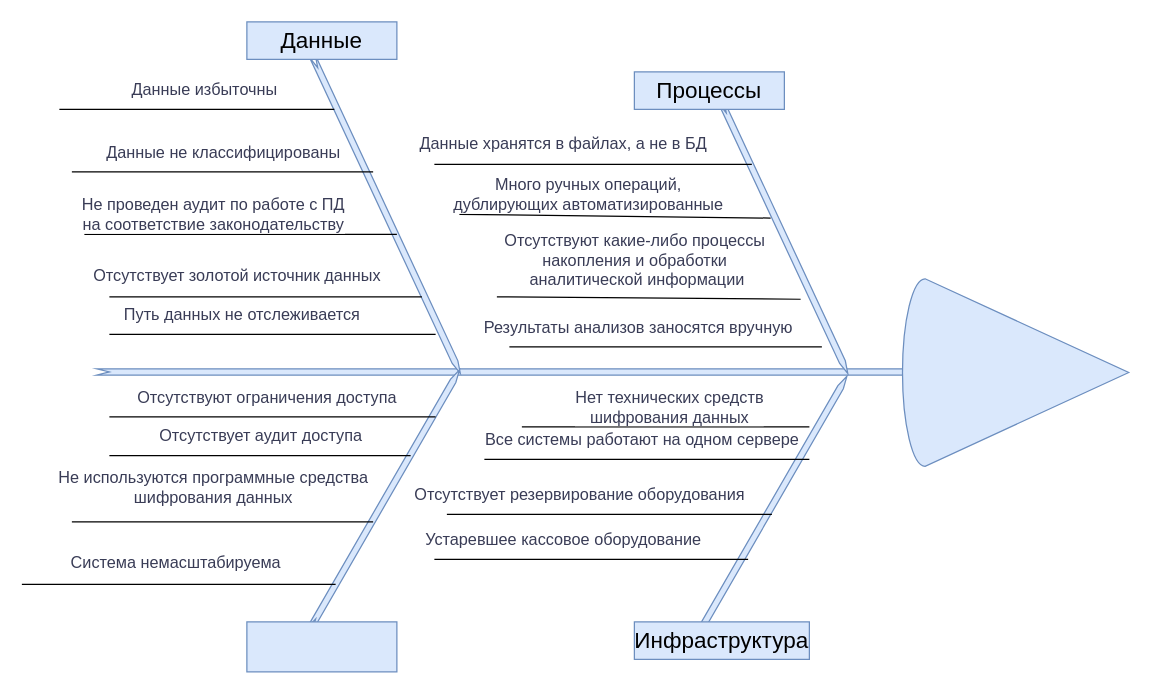
Image size: 1151x695. Some labels were removed from this diagram. Here are the shapes that lost their labels. From the top down, the centre of each, then its label:
At point (1015, 372): "Данные не используются должным образом и плохо защищены".
At point (321, 646): "Программное обеспечение".
